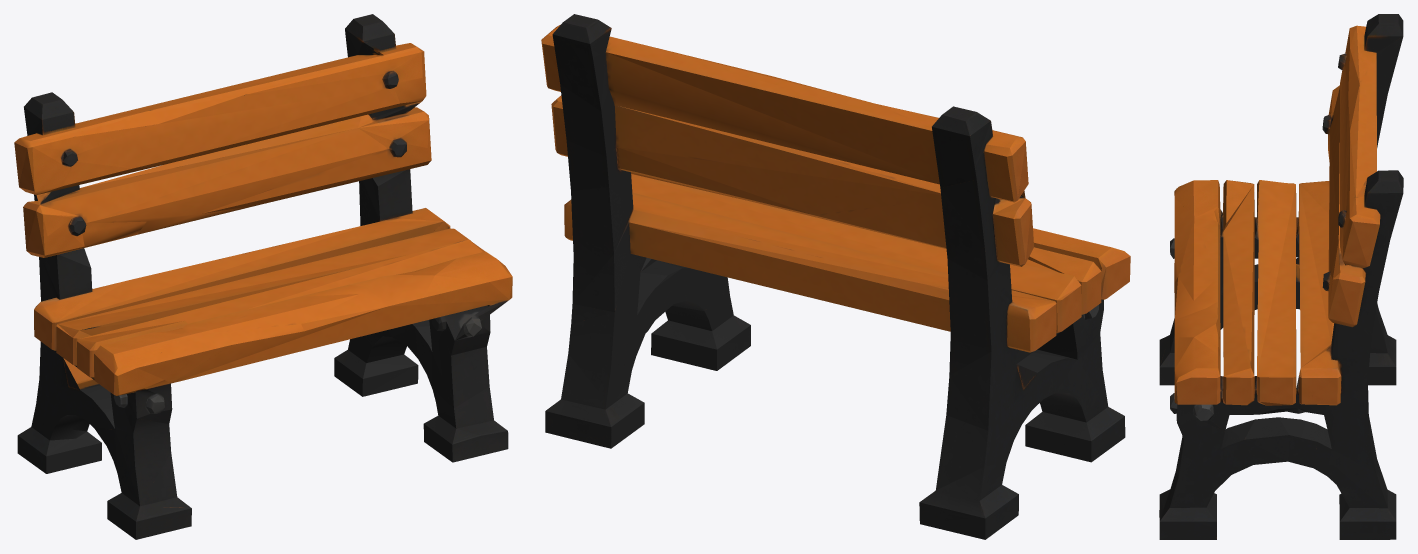
Rendered from TWN_PRP_bench_A.glb.
3 renders of one model, left to right at view 1: azimuth 30°, elevation 25°; view 2: azimuth 150°, elevation 25°; view 3: azimuth 270°, elevation 25°, orthographic. The views are drawn at different scales.
Visible parts, largest first — view 1: Mesh_0; view 2: Mesh_0; view 3: Mesh_0.
Boxes of the visible parts, x1,y1,x2,y2 form: Mesh_0: (14, 14, 512, 539); Mesh_0: (541, 14, 1130, 539); Mesh_0: (1159, 14, 1403, 539).
Size of the model in its own units: 1.9 by 1.61 by 1.01.
1 material, 1 textured.
